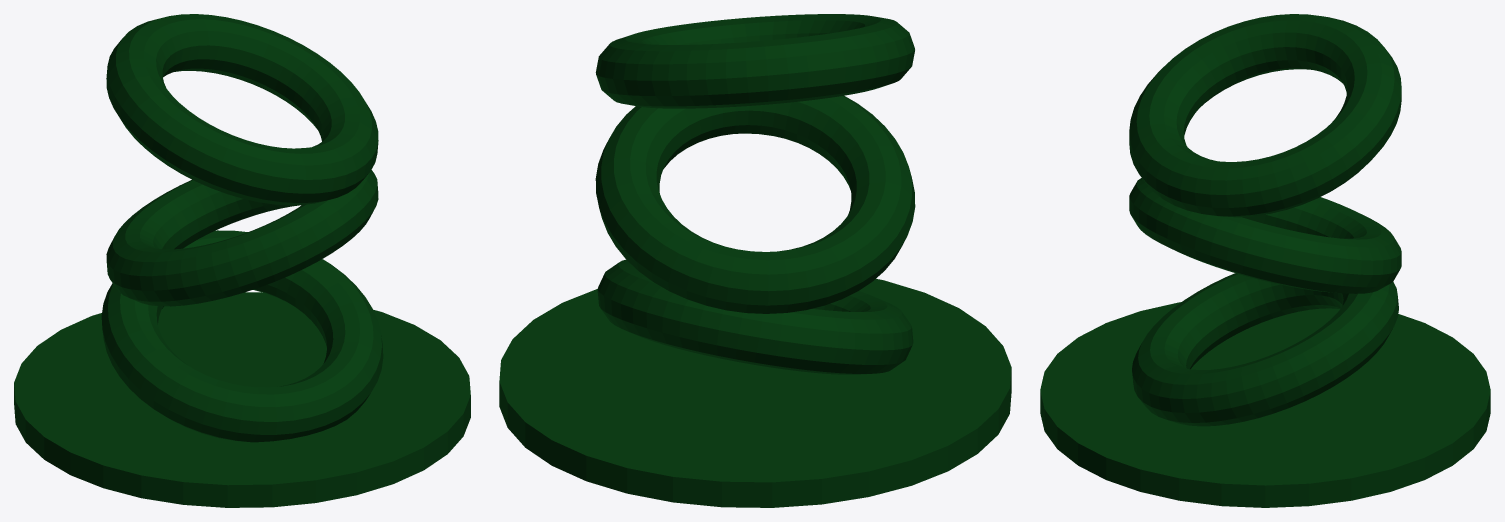
The model's file is Rings.fbx.
The picture shows the model from 3 angles, left to right: view 1: azimuth 30°, elevation 25°; view 2: azimuth 150°, elevation 25°; view 3: azimuth 270°, elevation 25°; orthographic projection. The views are drawn at different scales.
Visible parts, largest first — view 1: Cylinder, Torus.002, Torus.001, Torus.003; view 2: Cylinder, Torus.003, Torus.002, Torus.001; view 3: Cylinder, Torus.002, Torus.001, Torus.003.
Boxes of the visible parts, x1,y1,x2,y2 form: Cylinder: [14, 292, 470, 507]; Torus.002: [106, 14, 378, 205]; Torus.001: [101, 230, 383, 442]; Torus.003: [106, 147, 378, 306]; Cylinder: [499, 279, 1011, 507]; Torus.003: [595, 96, 915, 313]; Torus.002: [595, 14, 914, 108]; Torus.001: [597, 259, 913, 374]; Cylinder: [1040, 302, 1490, 507]; Torus.002: [1129, 14, 1401, 217]; Torus.001: [1132, 273, 1398, 426]; Torus.003: [1129, 178, 1401, 293].
Bounding box in the file's own units: 400 × 350 × 400.
